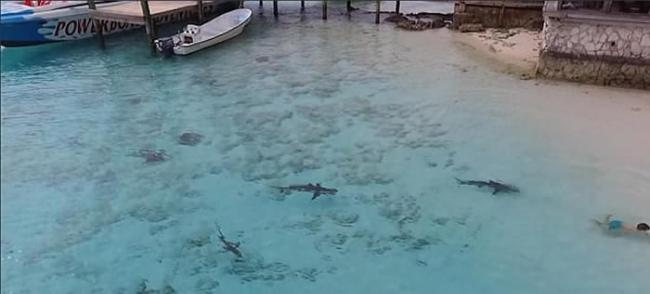shark: (263, 178, 340, 201), (213, 221, 247, 261), (451, 182, 527, 199)
